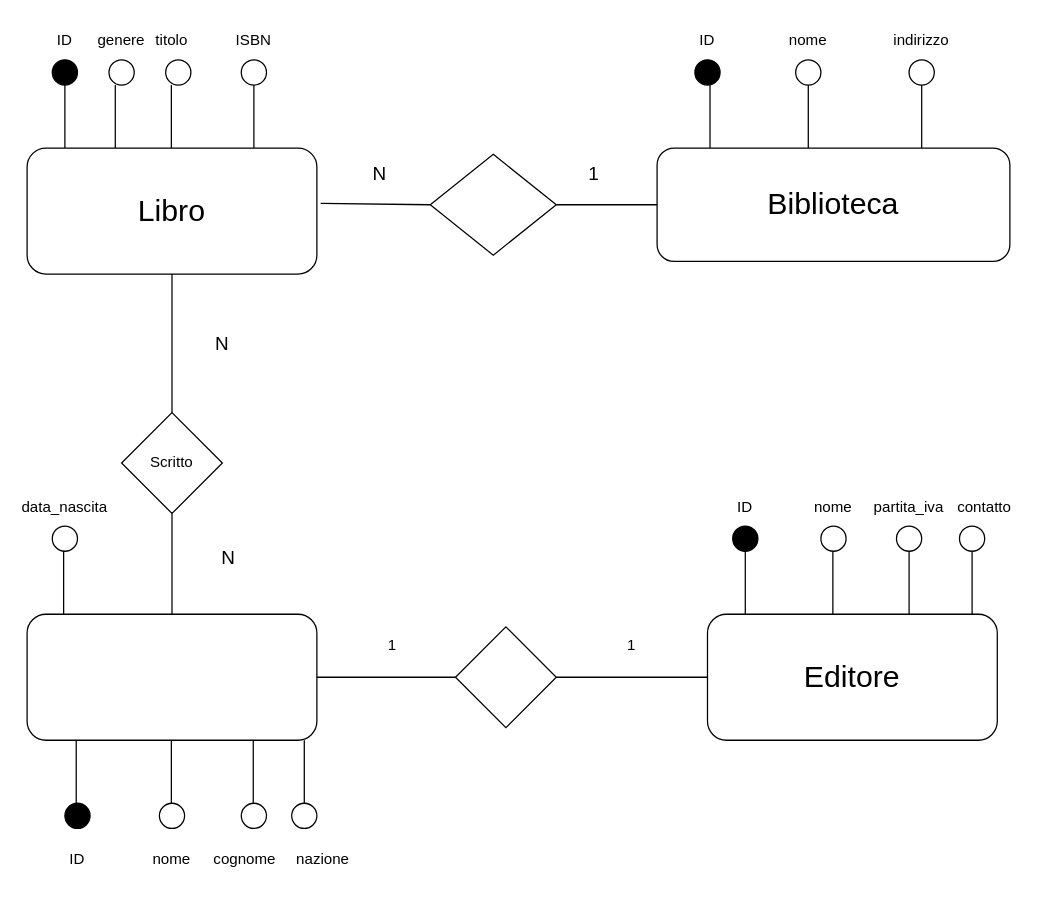
Some shapes in this 1043 by 900 pixel diagram are drawn without their labels. Each missing label, with the centre of its shape:
Autore: (171,676)
Pubblicato: (505,677)
